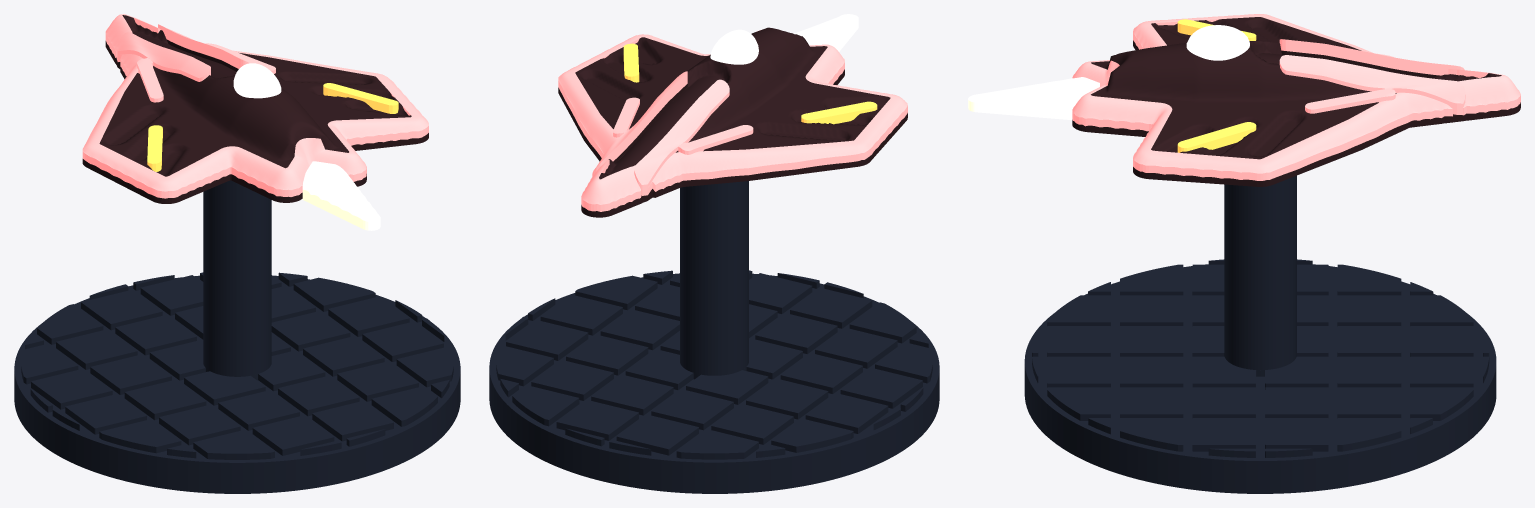
File: ember-mini.glb
The picture shows the model from 3 angles, left to right: view 1: azimuth 30°, elevation 25°; view 2: azimuth 150°, elevation 25°; view 3: azimuth 270°, elevation 25°; orthographic projection. The views are drawn at different scales.
Visible parts, largest first — view 1: stand, hull, neon, flame, hot, canopy; view 2: stand, hull, neon, hot, flame, canopy; view 3: stand, hull, neon, flame, canopy, hot.
Part boxes in pixels (bbox=[...]): stand: bbox=[14, 180, 460, 493]; hull: bbox=[82, 15, 428, 203]; neon: bbox=[82, 14, 428, 198]; flame: bbox=[302, 161, 380, 230]; hot: bbox=[147, 83, 398, 171]; canopy: bbox=[233, 63, 281, 98]; stand: bbox=[489, 181, 939, 493]; hull: bbox=[558, 27, 907, 217]; neon: bbox=[558, 30, 907, 211]; hot: bbox=[623, 43, 877, 124]; flame: bbox=[794, 14, 858, 51]; canopy: bbox=[710, 29, 758, 64]; stand: bbox=[1024, 175, 1496, 493]; hull: bbox=[1072, 17, 1520, 186]; neon: bbox=[1072, 14, 1520, 180]; flame: bbox=[968, 77, 1099, 120]; canopy: bbox=[1186, 25, 1249, 60]; hot: bbox=[1177, 19, 1256, 152].
Bounding box in the file's own units: 0.026 × 0.0224 × 0.0305.
